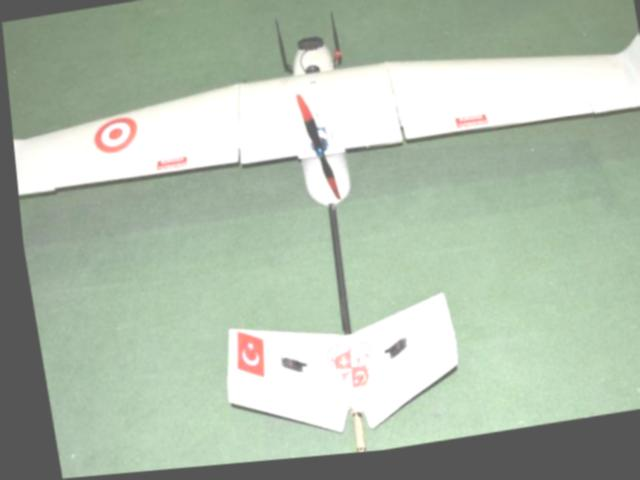iha: (1, 0, 640, 480)
